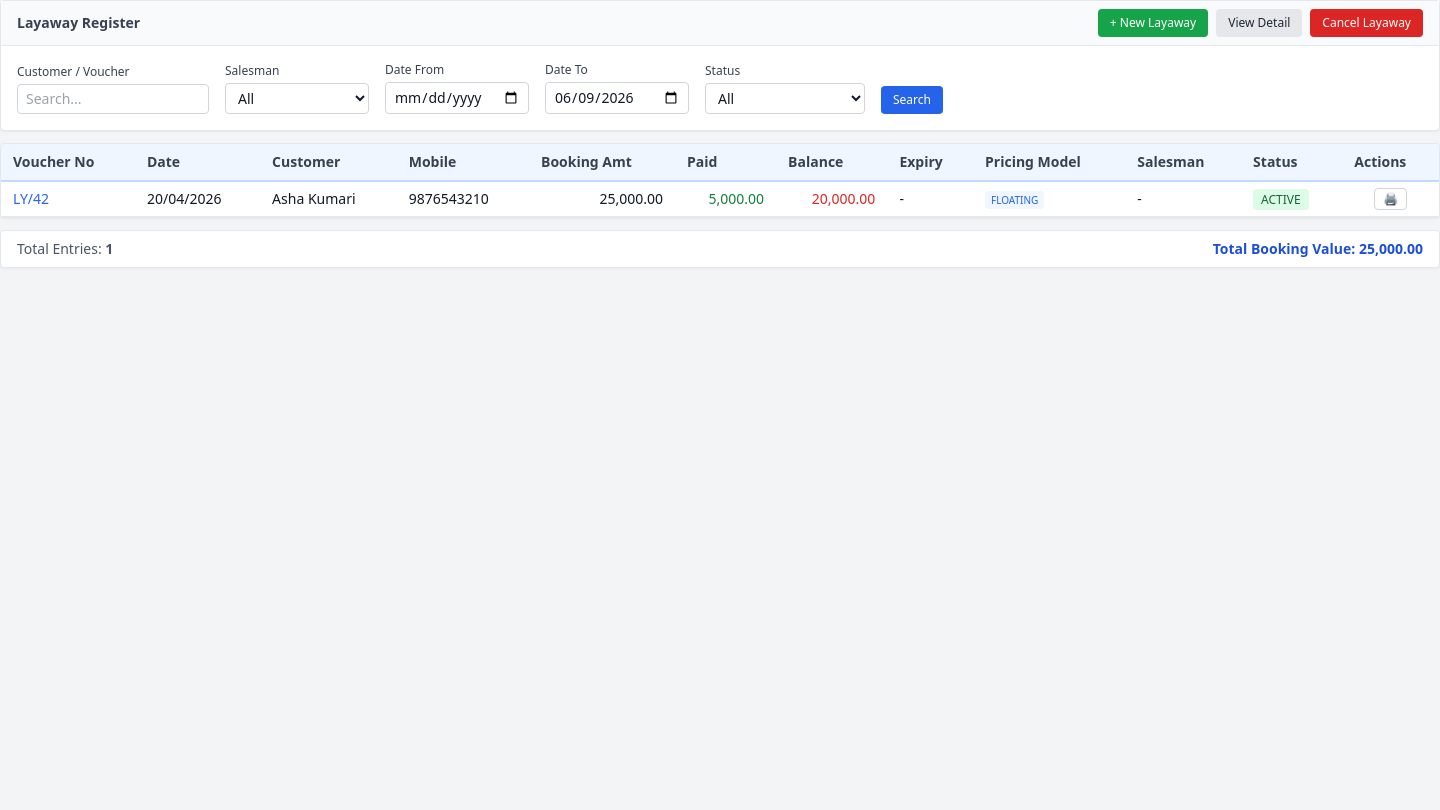
Test: LayawayList — print button + dialog › opens the print dialog and fetches the layaway (not the sales voucher) when clicked
Step 1. Click the button with test id "print-layaway-42" → x=1391, y=199, box [1374,188,1407,210]
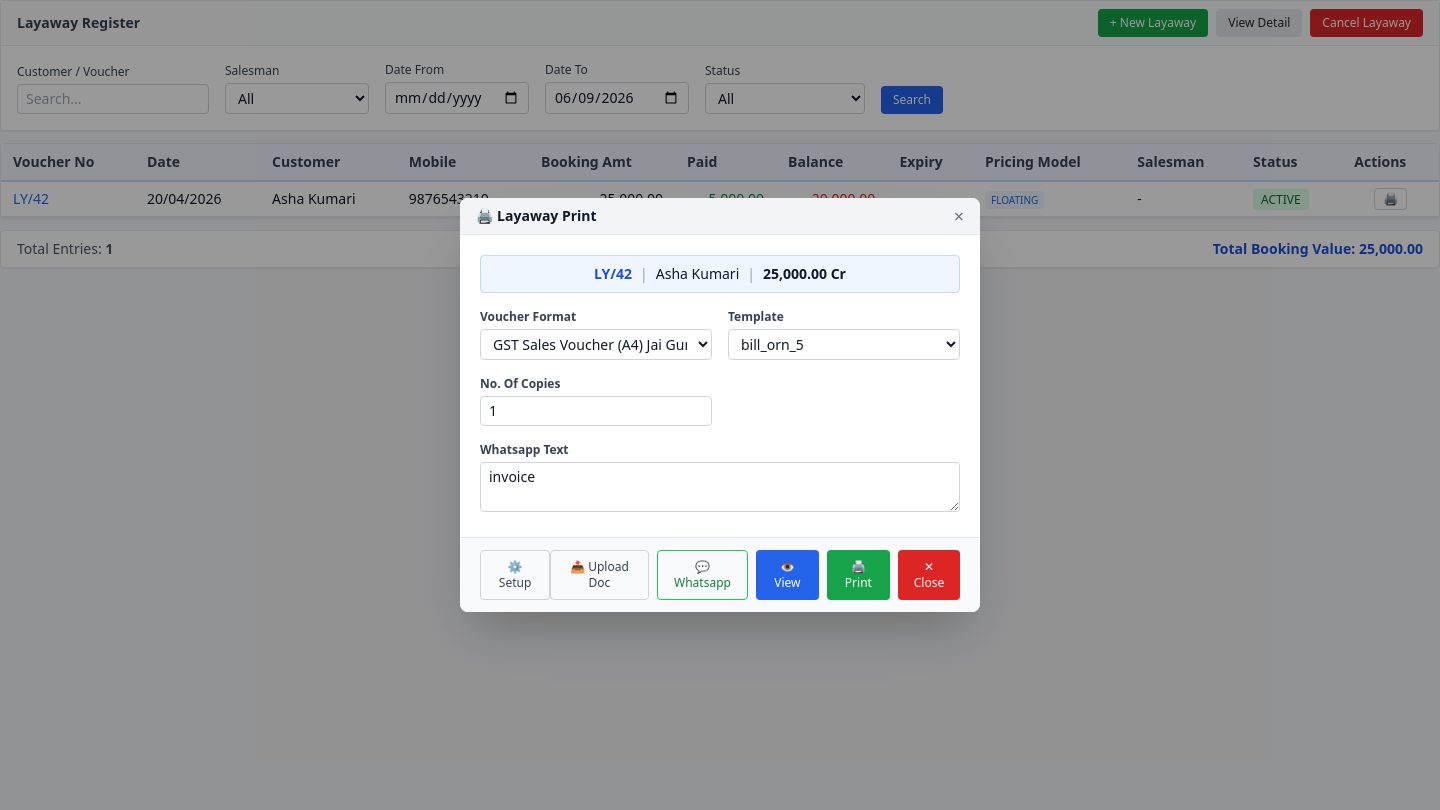
Now the heading "🖨️ Layaway Print" is shown, box [476,206,597,226]
